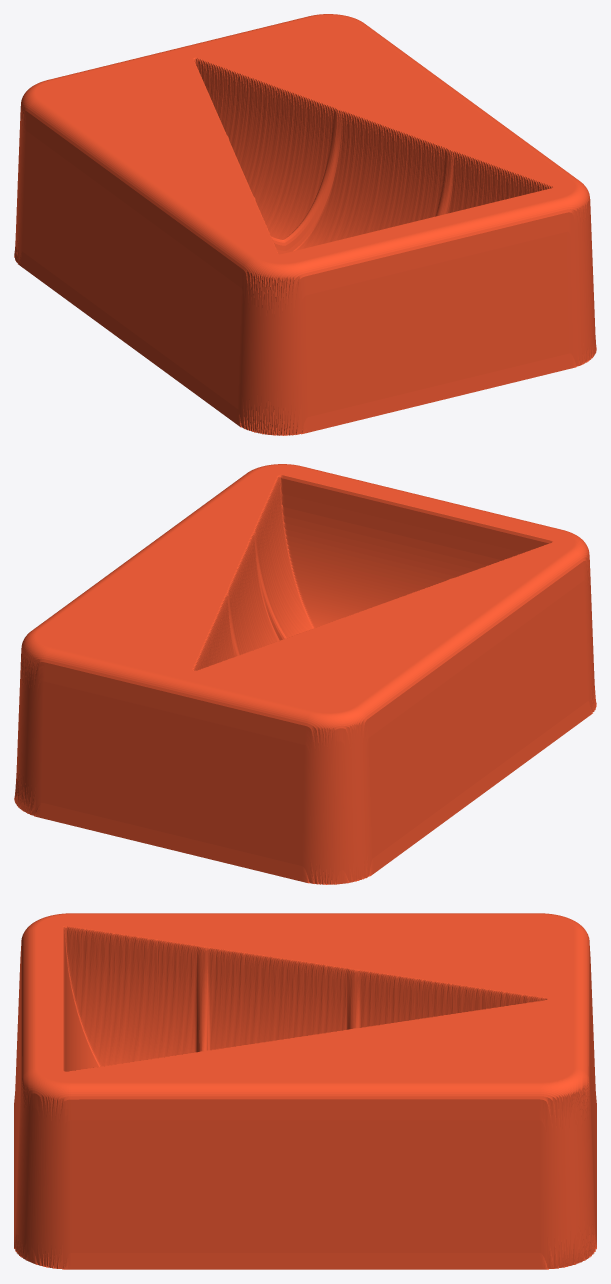
Rendered from mold.glb.
3 renders of one model, top to bottom at view 1: azimuth 30°, elevation 25°; view 2: azimuth 150°, elevation 25°; view 3: azimuth 270°, elevation 25°, orthographic. The views are drawn at different scales.
Visible parts, largest first — view 1: geometry_0; view 2: geometry_0; view 3: geometry_0.
Boxes of the visible parts, box(x1,y1,x2,y2) form: geometry_0: box(14, 14, 596, 435); geometry_0: box(14, 464, 596, 884); geometry_0: box(14, 913, 596, 1269).
Bounding box in the file's own units: 0.0702 × 0.031 × 0.0924.
